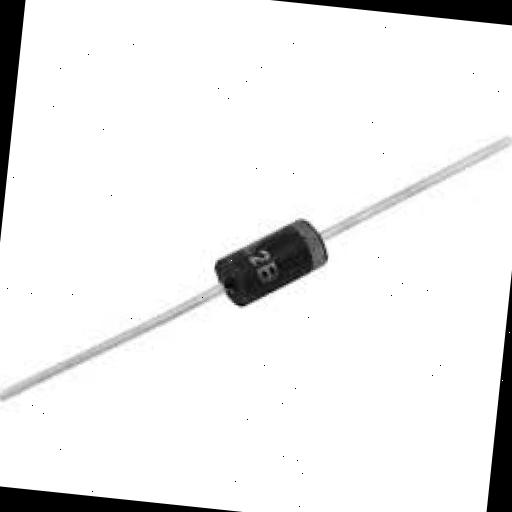DIODE: (0, 79, 512, 452)
